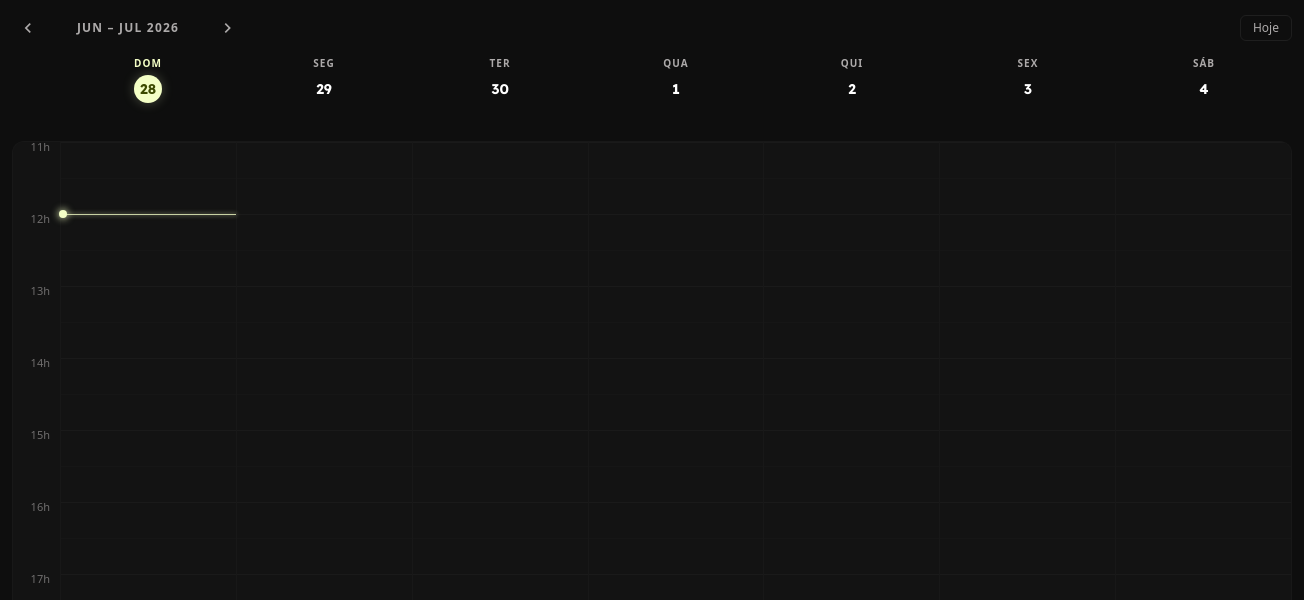
Test: ScheduleCalendar › navegação semanal desktop › botão "Hoje" retorna para a semana atual
The image size is (1304, 600).
(page scrolled)
Click the button named "Próxima semana". click: (228, 28)
box: [212,12,244,44]
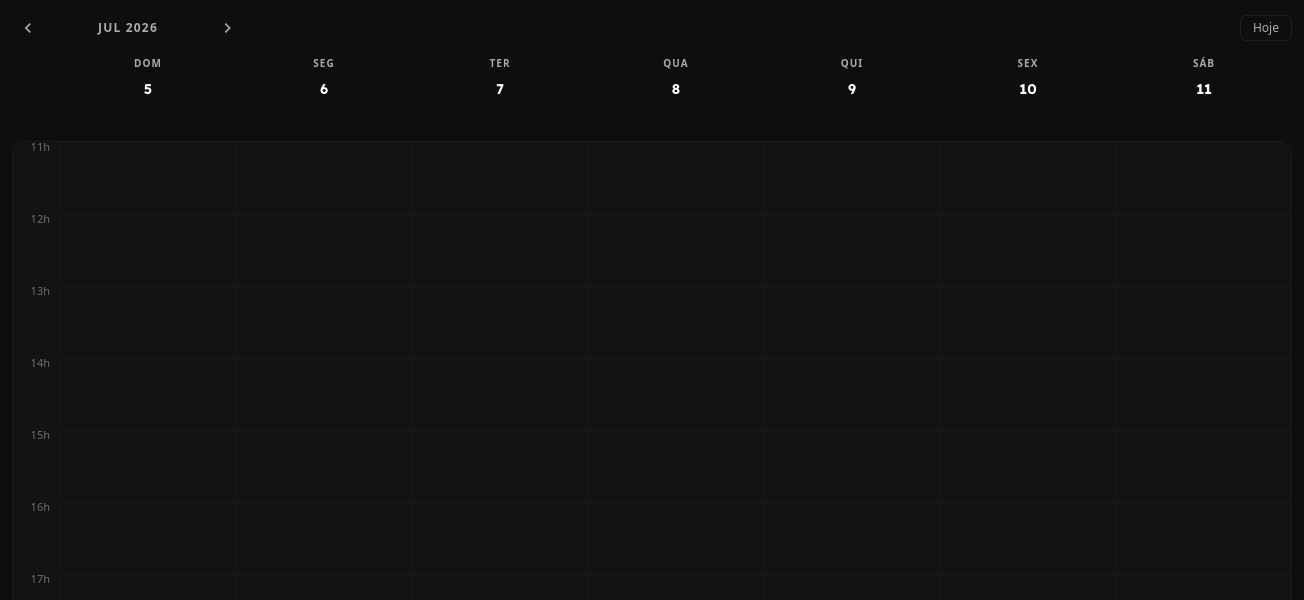
Expected: the text "jul 2026" is shown, [98,19,158,36]
Click the button "Hoje". click: (1266, 28)
box: [1240,15,1292,41]
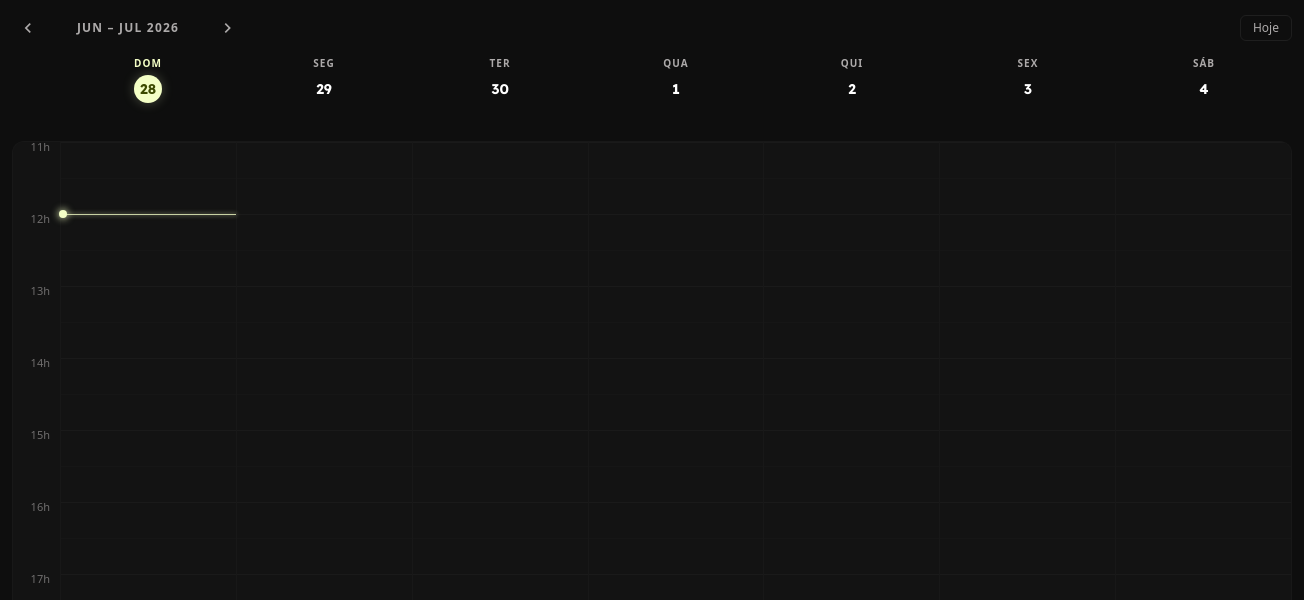
Result: the text "jun – jul 2026" is shown at [77,19,179,36]
